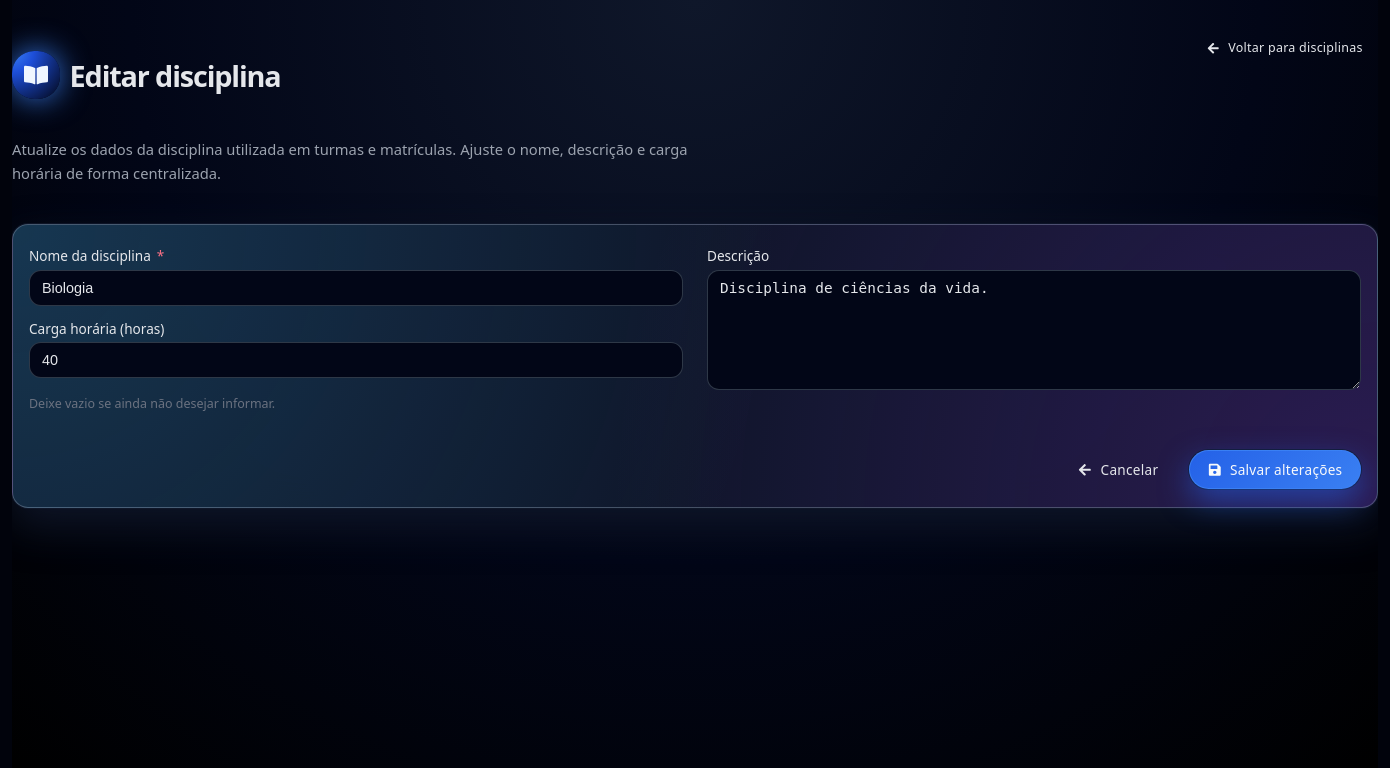
Test: SubjectEditPage (dashboard) › valida nome obrigatório ao salvar
Clear the field labelled "Nome da disciplina *": (356, 288) [29,270,683,306]
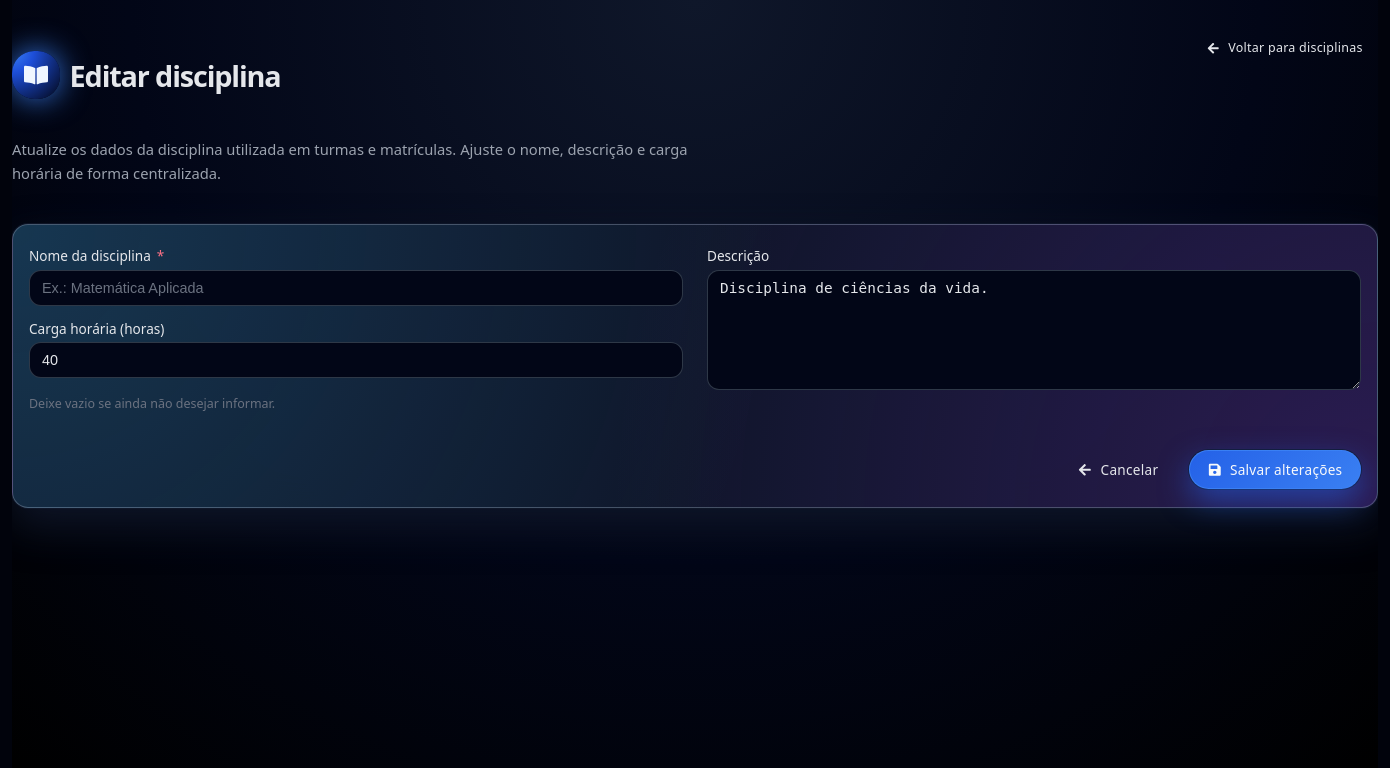
Click the button "Salvar alterações": (1275, 470) [1189,450,1361,489]
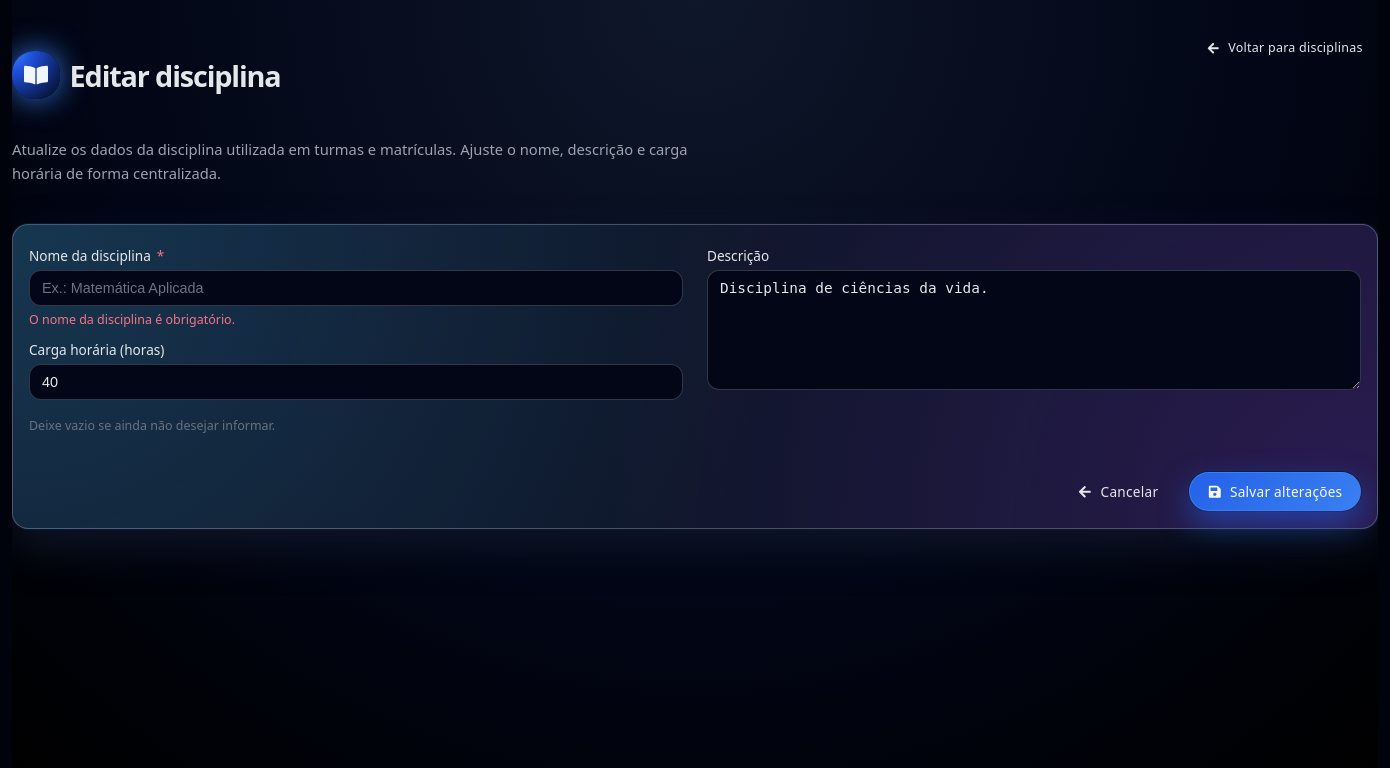
expect the text "O nome da disciplina é obrigatório." is shown: met, box [29,311,235,328]
